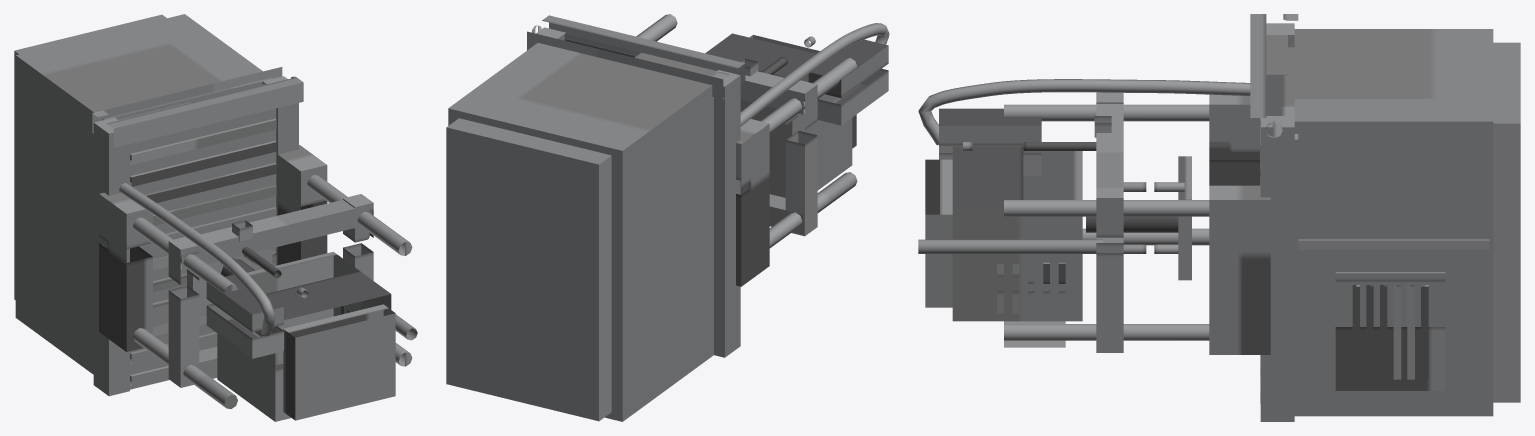
3 views of the same model, side by side, from view 1: azimuth 30°, elevation 25°; view 2: azimuth 150°, elevation 25°; view 3: azimuth 270°, elevation 25° (orthographic). The views are drawn at different scales.
Bounding box in the file's own units: 0.76 × 0.98 × 1.76.
